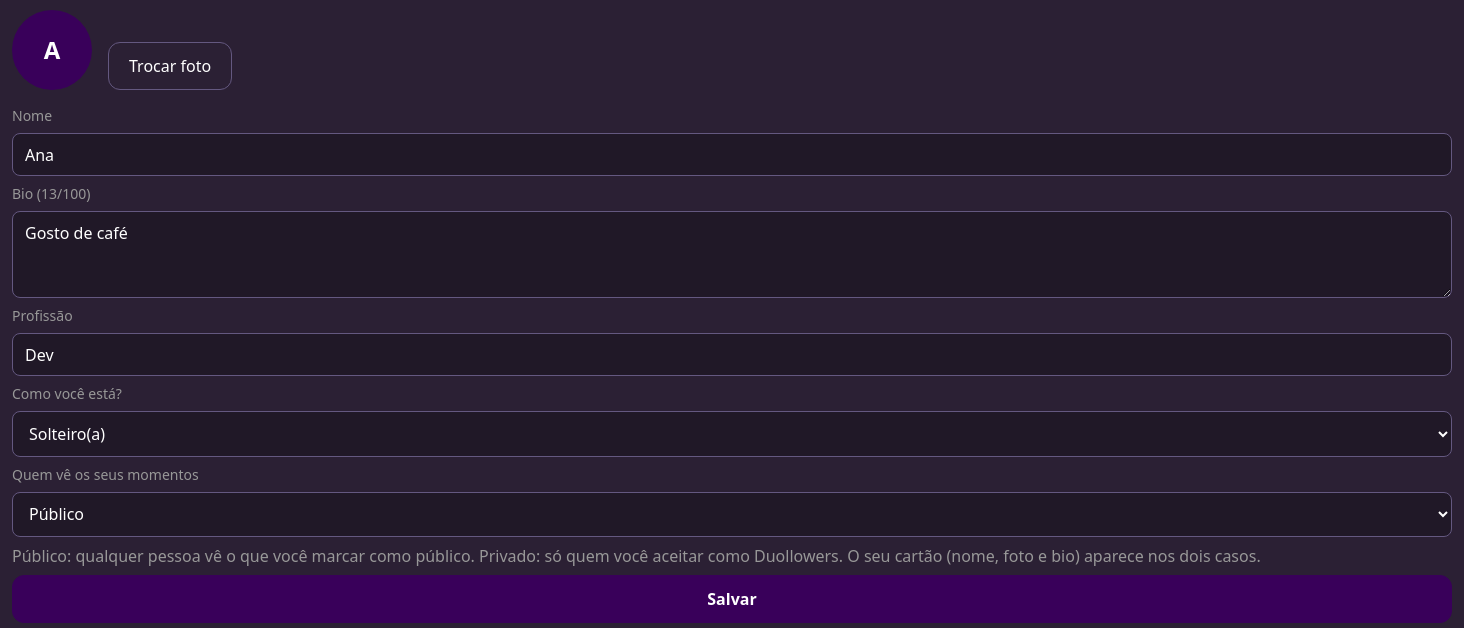
Scenario: EditProfileForm › salvar envia todos os campos e avisa o app do novo nome
The image size is (1464, 628).
Replace the text in the field labelled "Nome" with "Ana Clara" at x=732, y=154, box [12,133,1452,176]
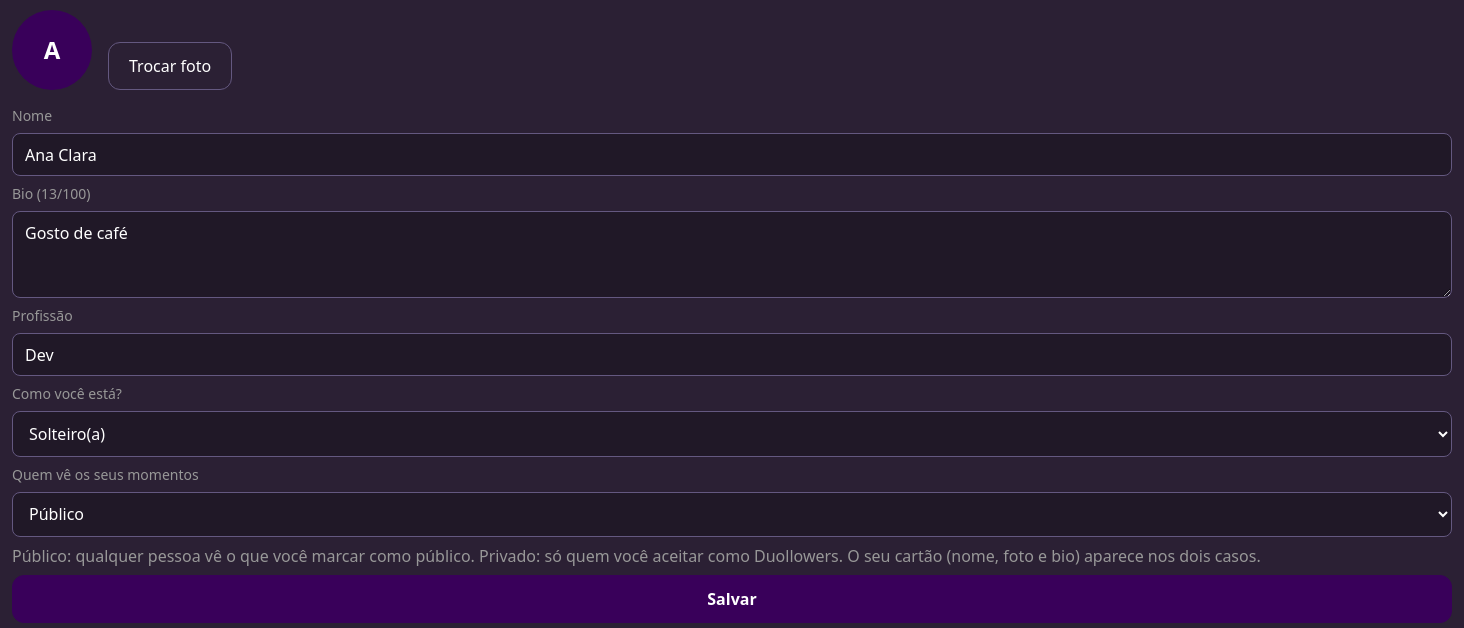
Select "Namorando" in the dropdown labelled "Como você está?" at x=732, y=434, box [12,412,1452,457]
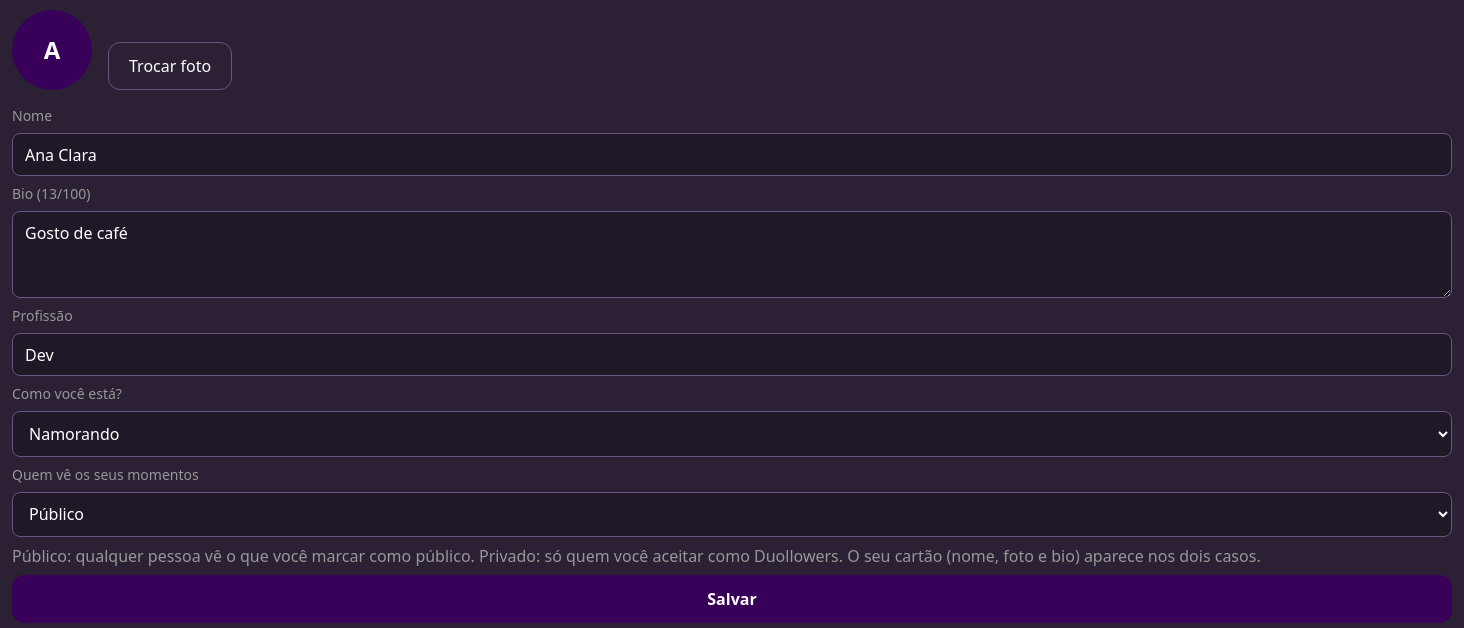
Select "Privado" in the dropdown labelled "Quem vê os seus momentos" at x=732, y=514, box [12,492,1452,537]
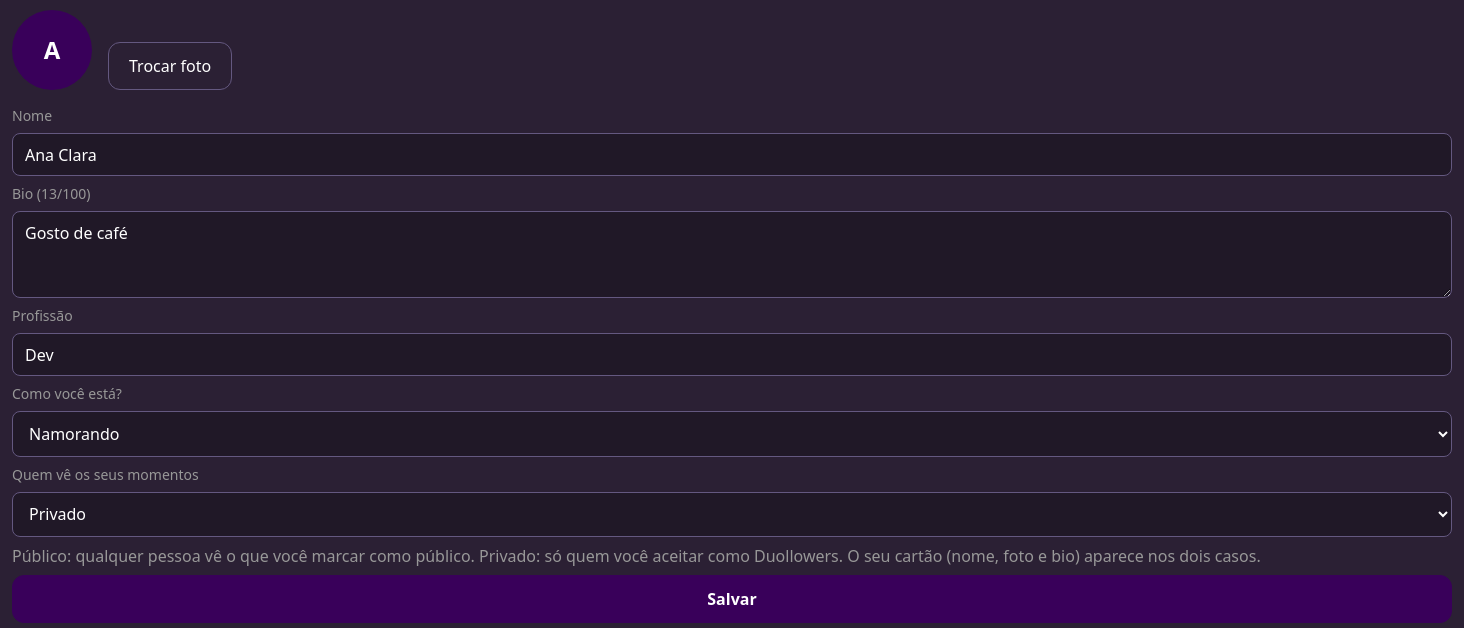
Click the button "Salvar".
click(732, 599)  # box [12,575,1452,623]
(page scrolled)
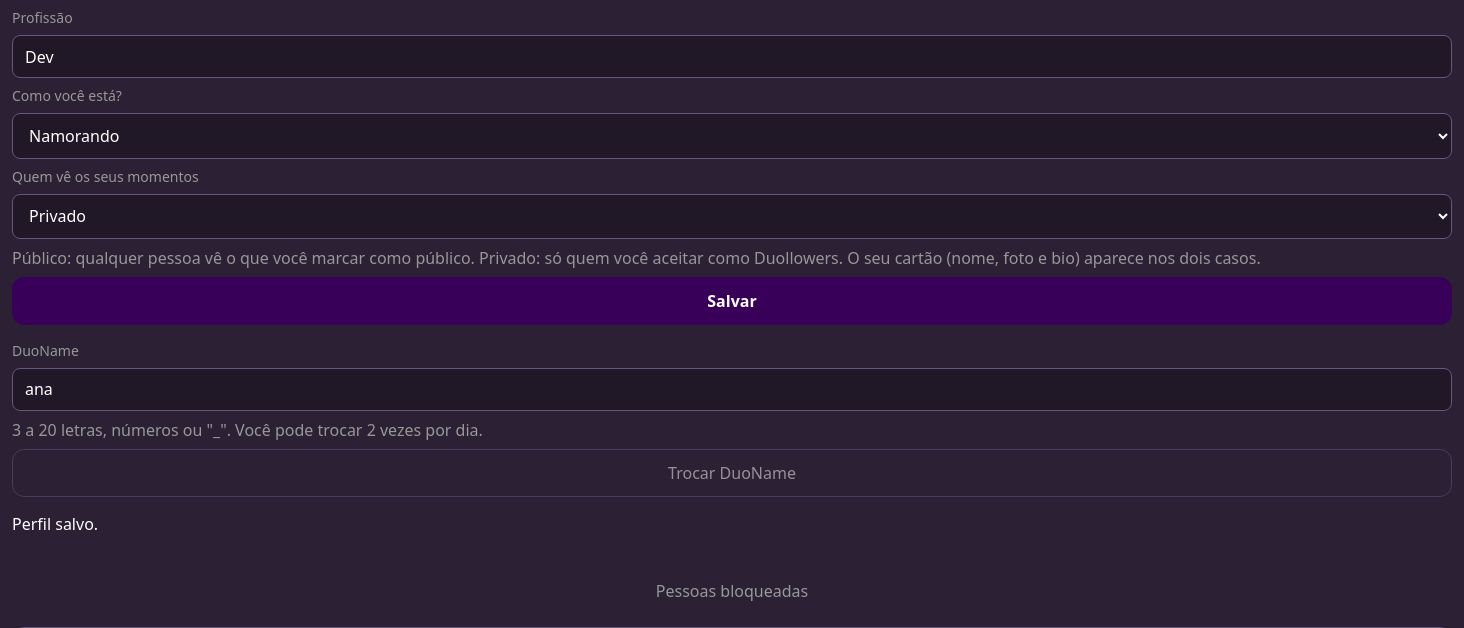
Check: the message reads "Perfil salvo.", box [12,513,98,535]
